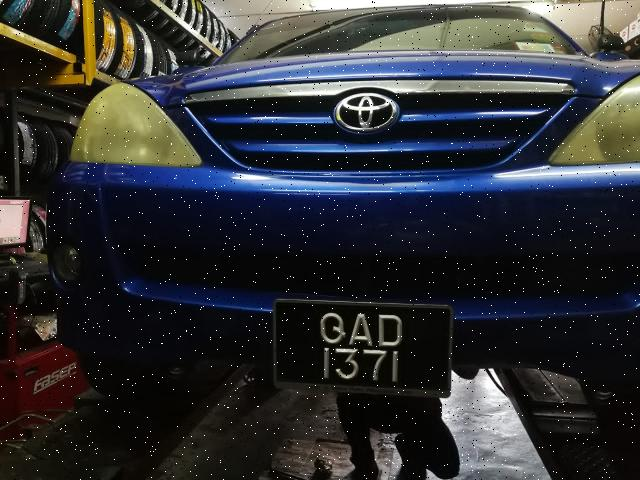License_Plate: (277, 301, 450, 389)
car: (46, 10, 640, 426)
